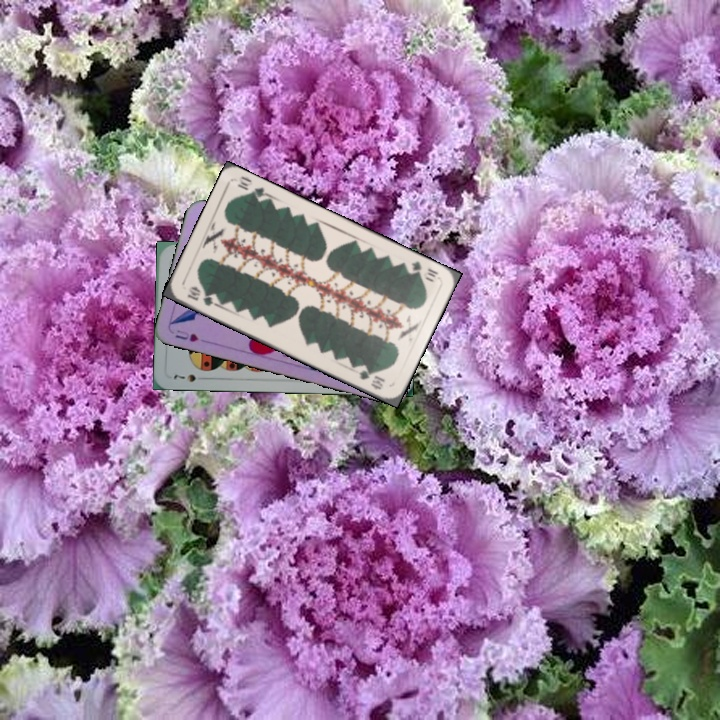G10: (183, 282, 219, 309), (407, 257, 441, 281)
HU: (171, 326, 201, 344)
S7: (170, 370, 198, 385)
